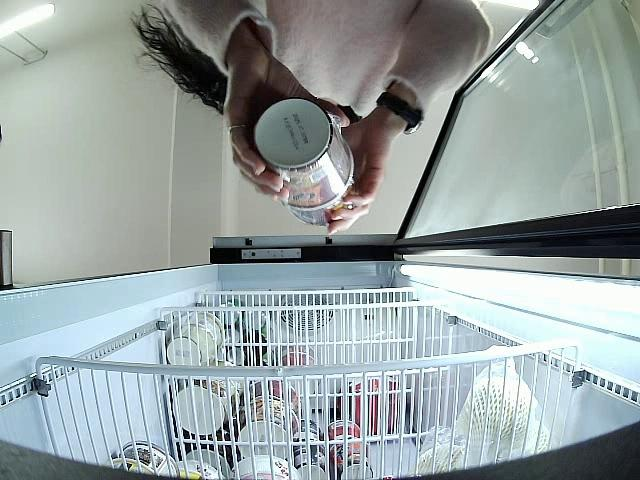00_hand: (223, 60, 350, 197), (325, 121, 391, 237)
06_nuguri_S: (251, 97, 351, 204), (287, 177, 354, 228)
